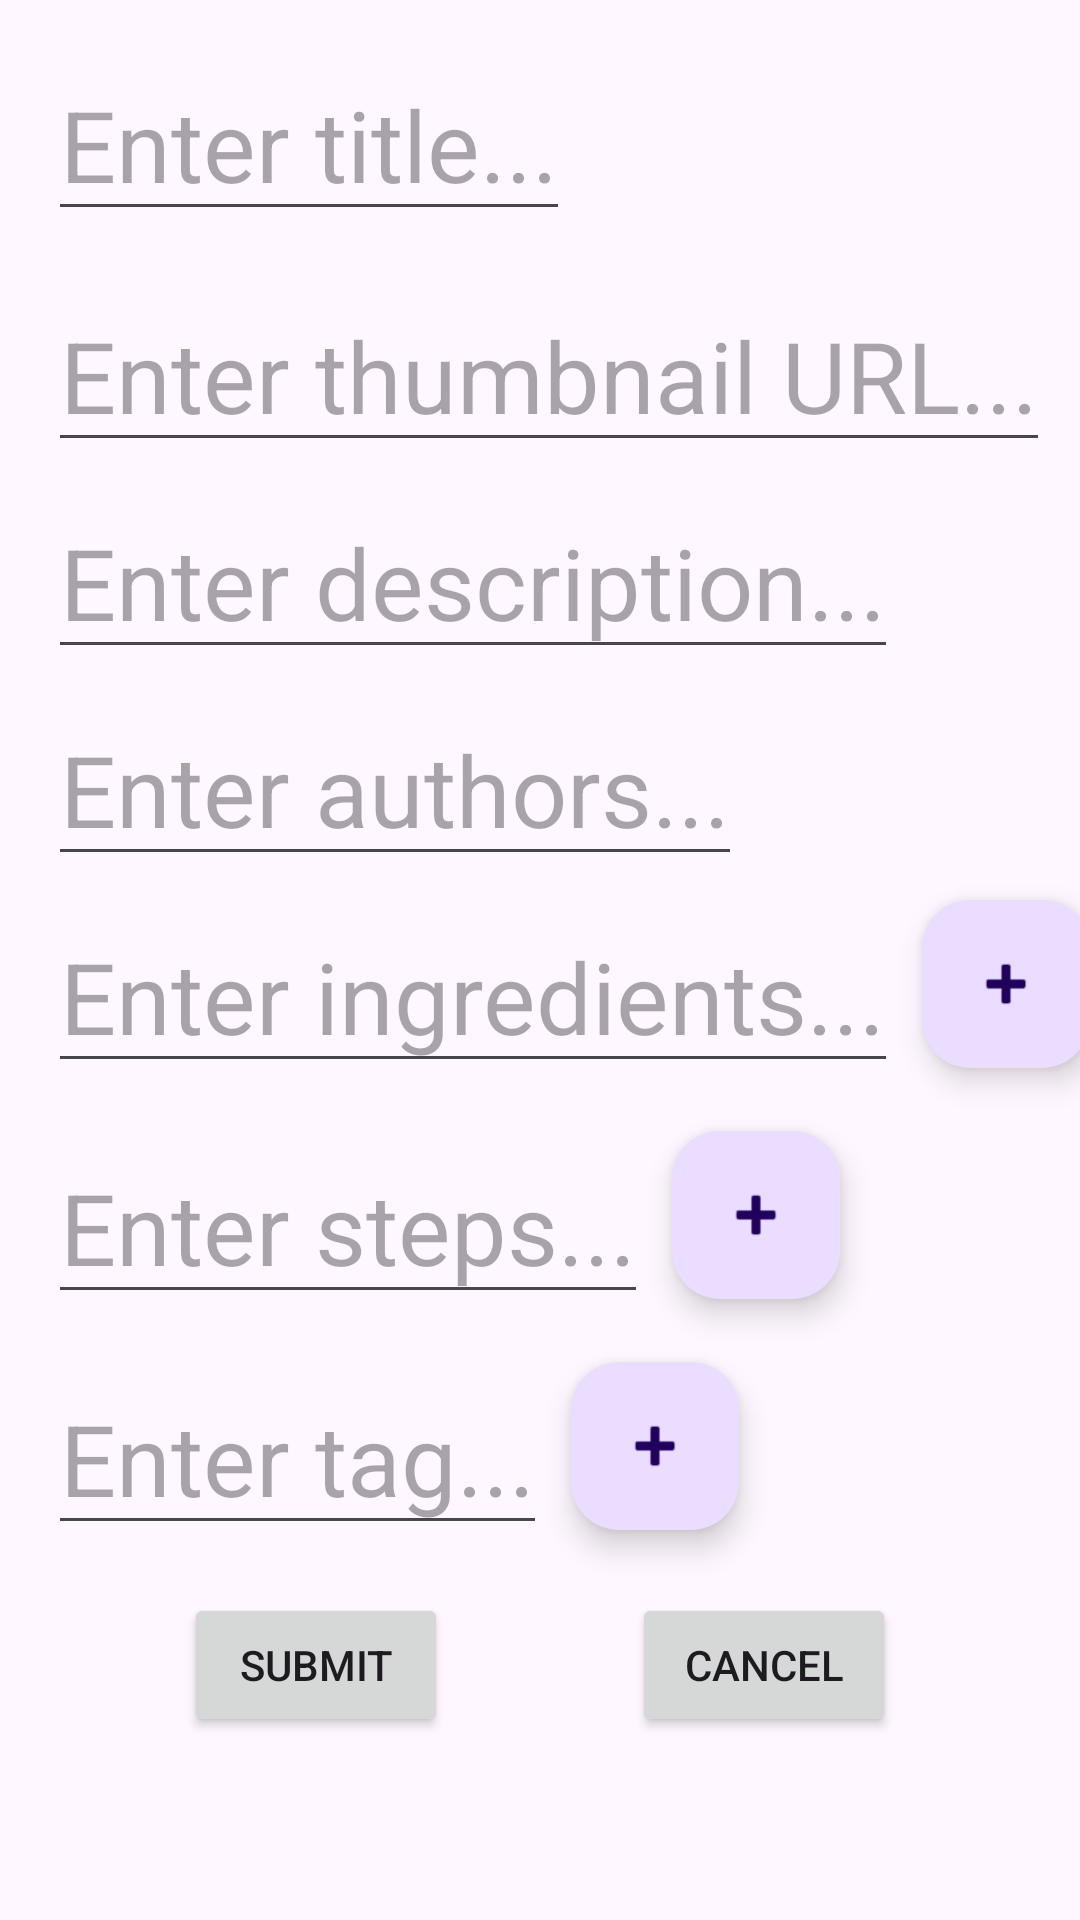

Icon click points for this 1080w x 1920h phone screenshot, format [x,y]:
add: [1001,984], [756,1215], [655,1446]
